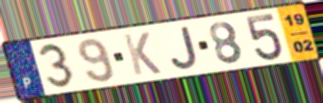3: (38, 40, 76, 92)
5: (242, 11, 285, 62)
8: (208, 20, 244, 65)
9: (75, 36, 117, 84)
J: (169, 24, 200, 71)
K: (121, 31, 164, 77)
